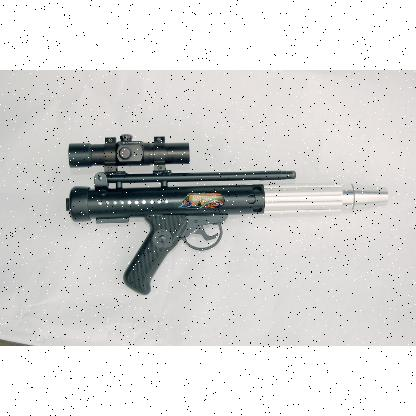gun: (63, 132, 388, 294)
